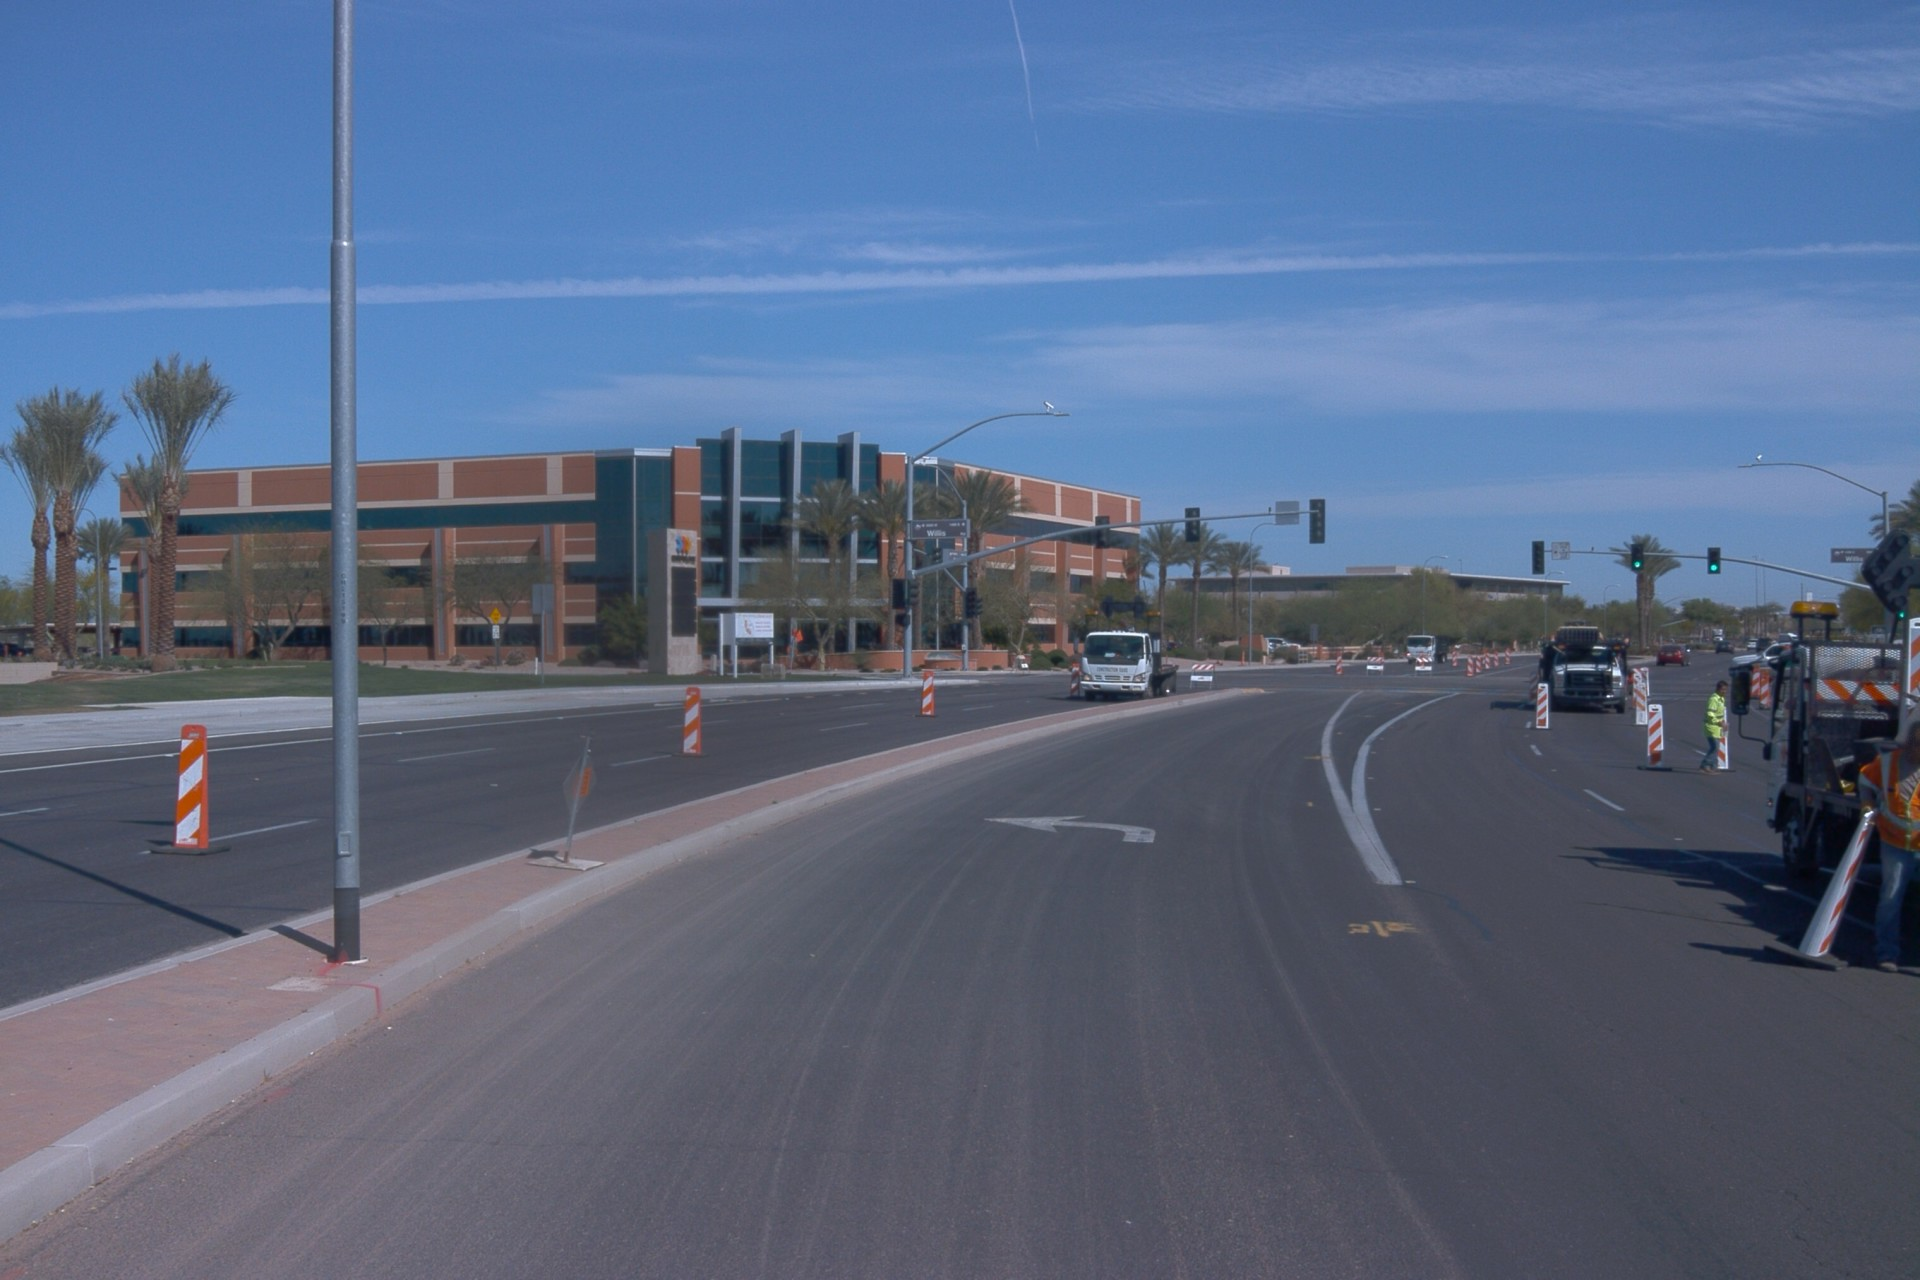TYPE_PEDESTRIAN: (1856, 719, 1920, 975), (1699, 678, 1733, 774)
TYPE_VEHICLE: (1723, 502, 1920, 980), (1532, 618, 1636, 721), (1075, 625, 1180, 705), (1730, 638, 1811, 686), (1404, 633, 1454, 666), (1654, 638, 1694, 668), (1262, 635, 1303, 653), (1713, 637, 1738, 656), (1743, 633, 1761, 652), (1755, 637, 1775, 654), (1711, 628, 1725, 645), (1519, 661, 1527, 680)
